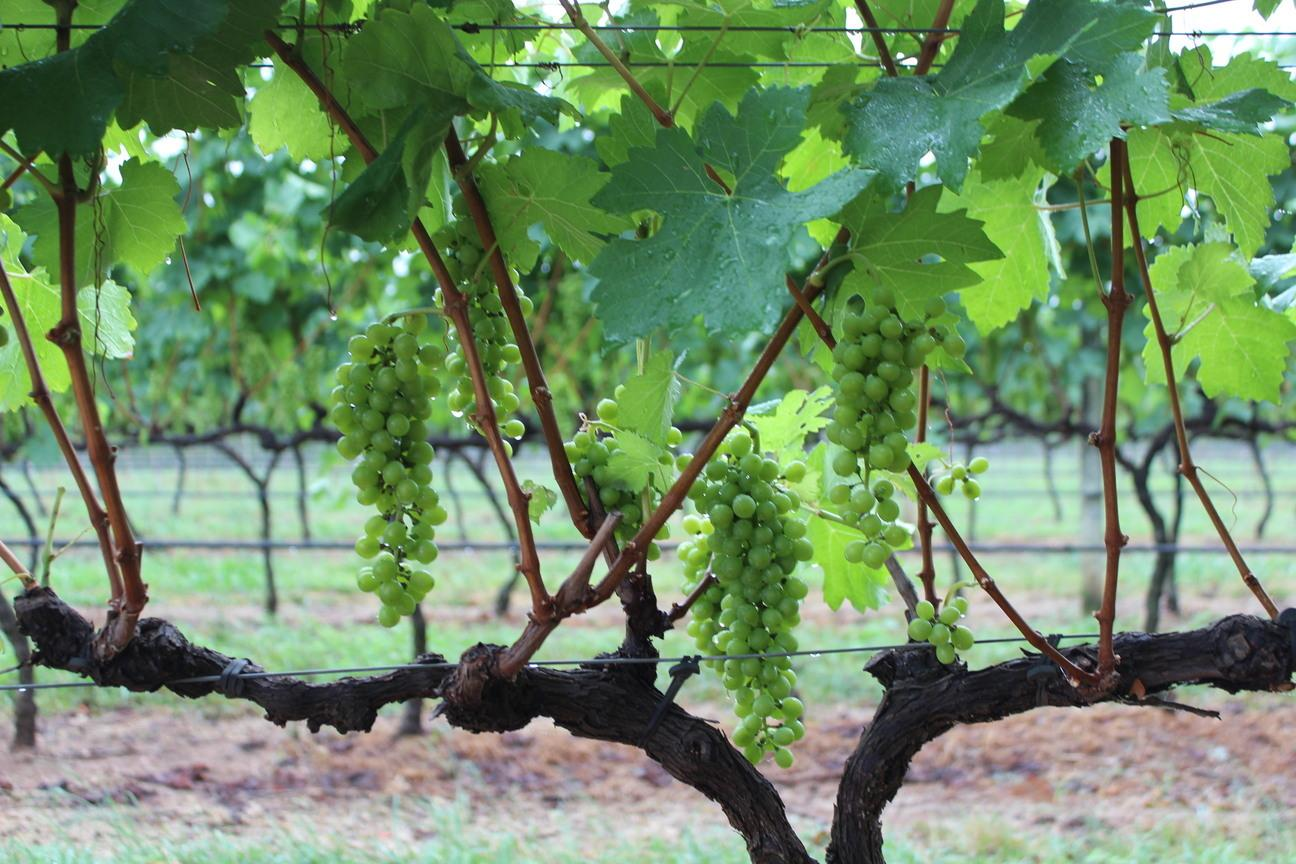leaf: (590, 87, 872, 337), (841, 0, 1154, 189), (0, 0, 228, 153), (342, 5, 573, 122), (1150, 243, 1295, 399), (118, 0, 280, 133), (841, 186, 1002, 315), (1008, 54, 1169, 172), (479, 147, 629, 270), (941, 168, 1055, 329), (330, 106, 452, 241), (74, 159, 185, 286), (1190, 133, 1289, 255), (0, 214, 68, 391), (249, 59, 343, 160), (808, 518, 888, 611), (748, 384, 833, 463), (1129, 126, 1187, 237), (616, 352, 679, 445), (1172, 87, 1289, 133), (76, 279, 135, 357), (606, 430, 673, 490), (14, 198, 56, 272), (0, 334, 31, 411), (522, 480, 554, 522), (1145, 324, 1163, 382), (122, 109, 143, 125), (172, 0, 192, 13), (135, 97, 156, 106), (149, 113, 166, 124), (176, 63, 185, 71), (6, 315, 12, 325), (155, 125, 162, 130), (150, 83, 160, 85), (1145, 310, 1148, 315), (240, 58, 244, 60), (211, 4, 215, 5)
